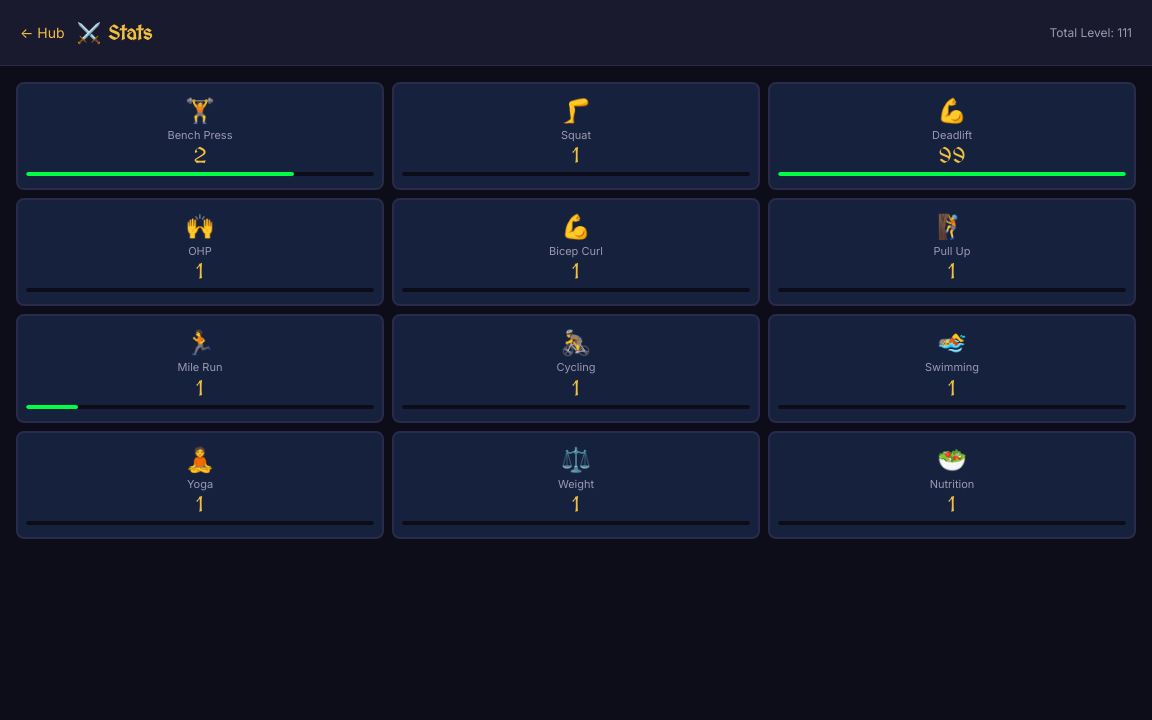
Test: StatsScreen › shows MAX LEVEL for a stat at 11573 XP
Expected: the text "Total Level: 111" is shown, 1050,25 -> 1132,40
Click the button with aria-label "Deadlift, level 99": (952, 136) 768,82 -> 1136,190
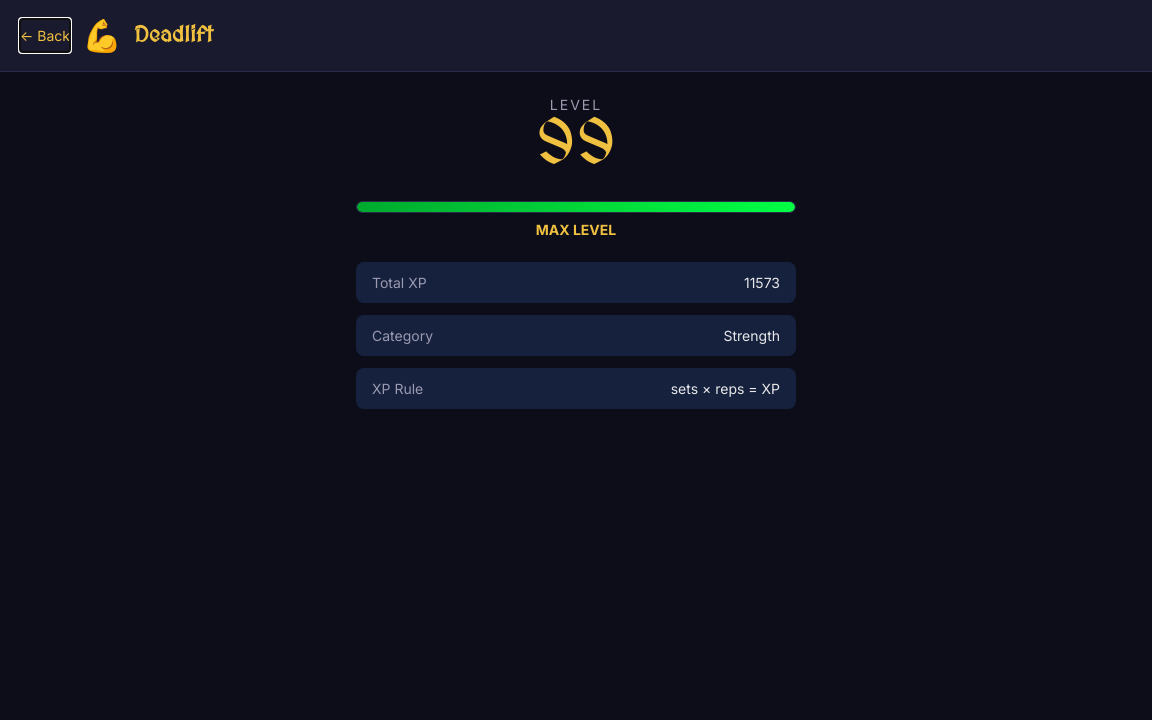
Now the text "MAX LEVEL" is shown, box 536,221 -> 616,238
Now the text "11573" is shown, box 744,274 -> 780,291
